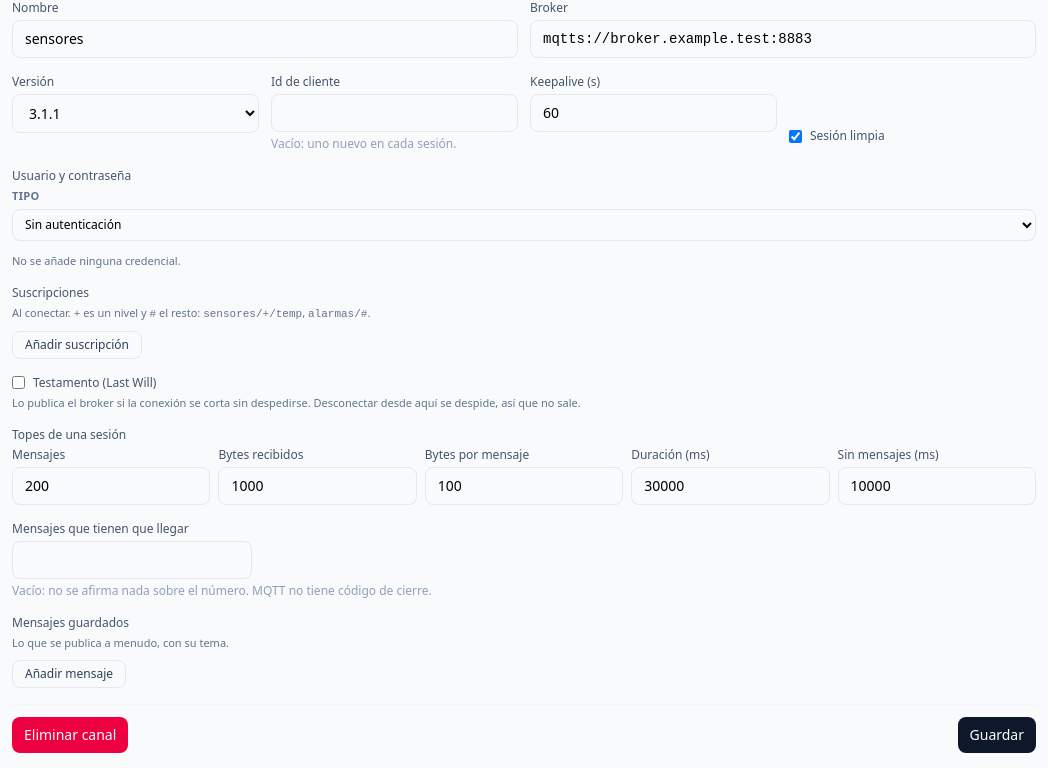
Test: la configuración de un canal MQTT › un error sin campos sale debajo del botón
This screenshot has width=1048, height=768.
Click the button "Guardar". click: [997, 734]
box: left=958, top=716, right=1036, bottom=752
(page scrolled)
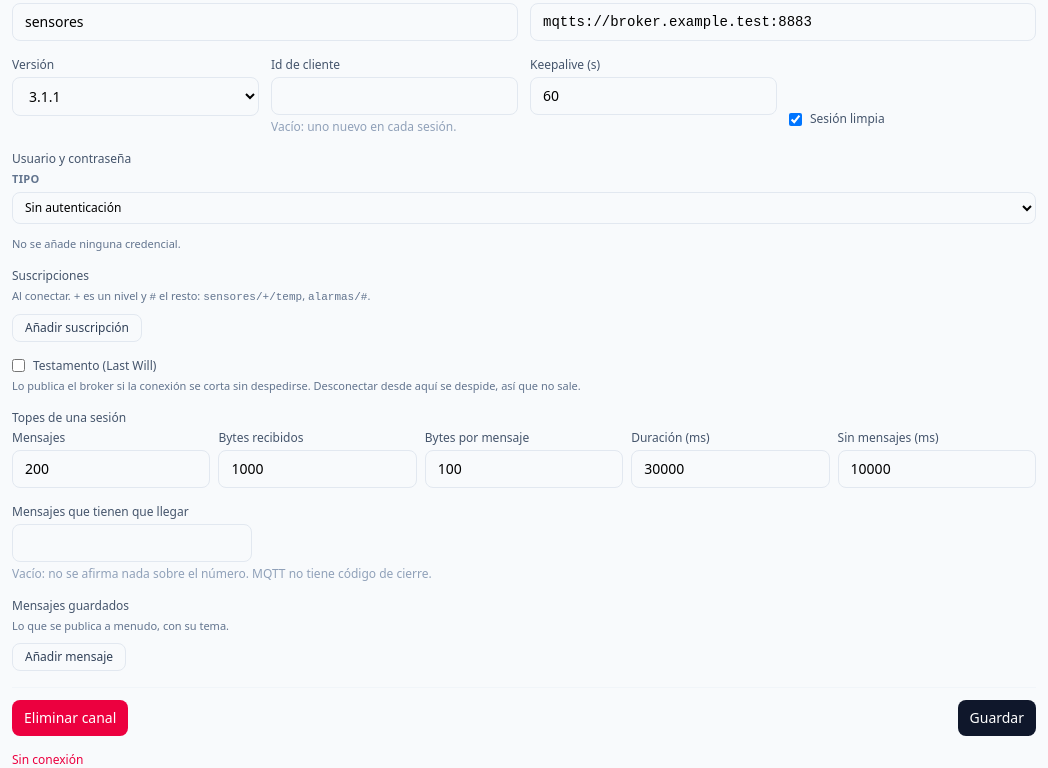
Check: the text "Sin conexión" is shown, box left=12, top=750, right=83, bottom=767
